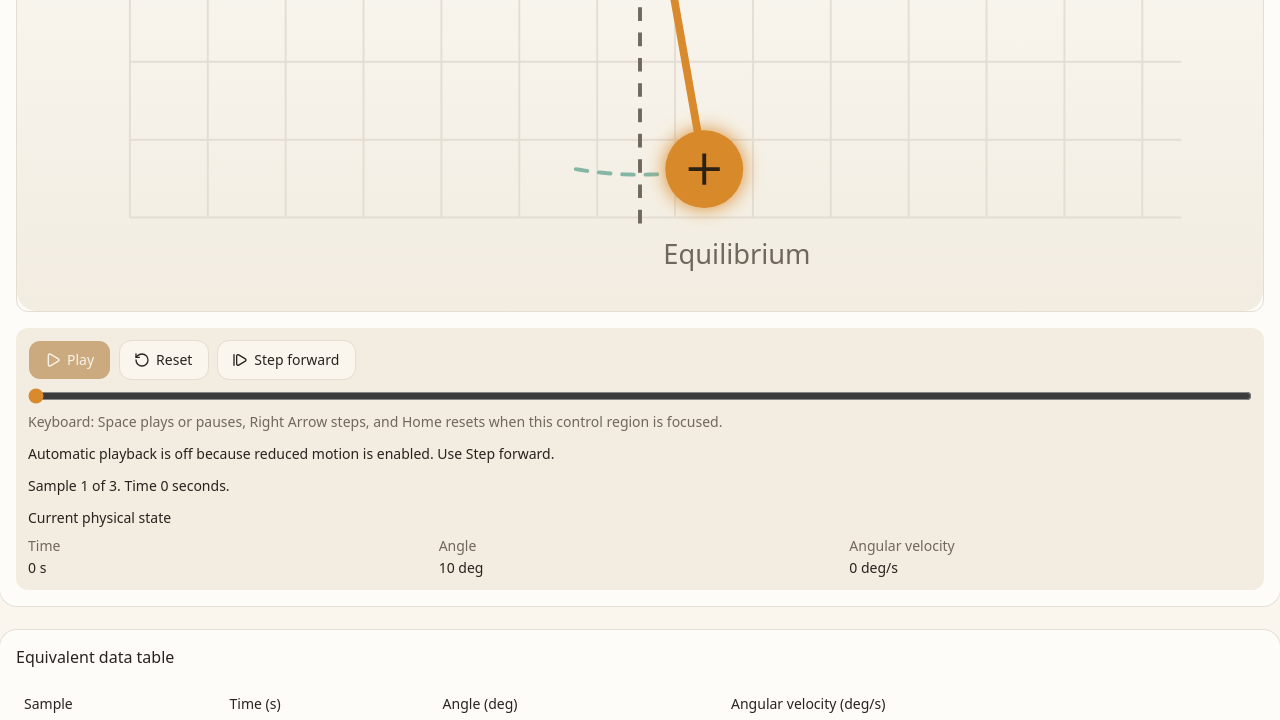
Test case: accessible simulation preview › disables automatic playback under reduced motion while preserving stepping
(page scrolled)
expect the button with aria-label "Play simulation" is disabled: met, box [28,340,111,380]
expect the text "Automatic playback is off because reduced motion is enabled. Use Step forward." is shown: met, box [28,444,554,463]
Click the button "Step forward" at (287, 360), box [217,340,356,380]
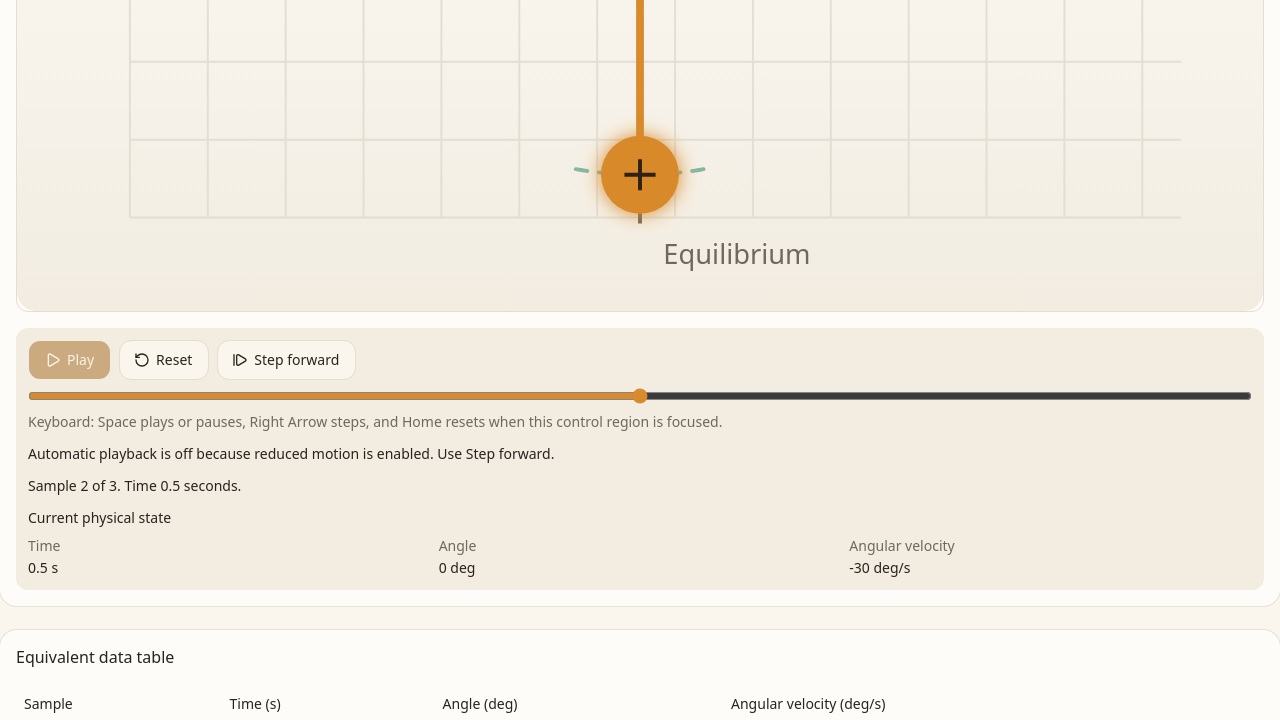
expect the message shows "Sample 2 of 3": met, box [28,476,241,495]
